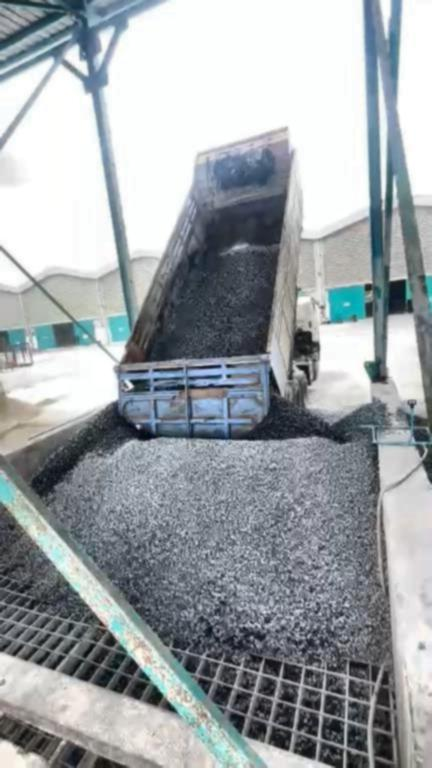gravel: (30, 388, 391, 663), (148, 201, 282, 361), (1, 507, 84, 613)
sand: (1, 393, 74, 453)
